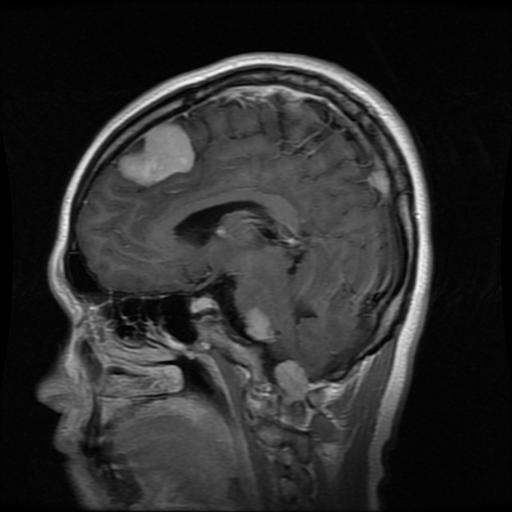Menigiomia_tumour: (116, 121, 195, 187)
